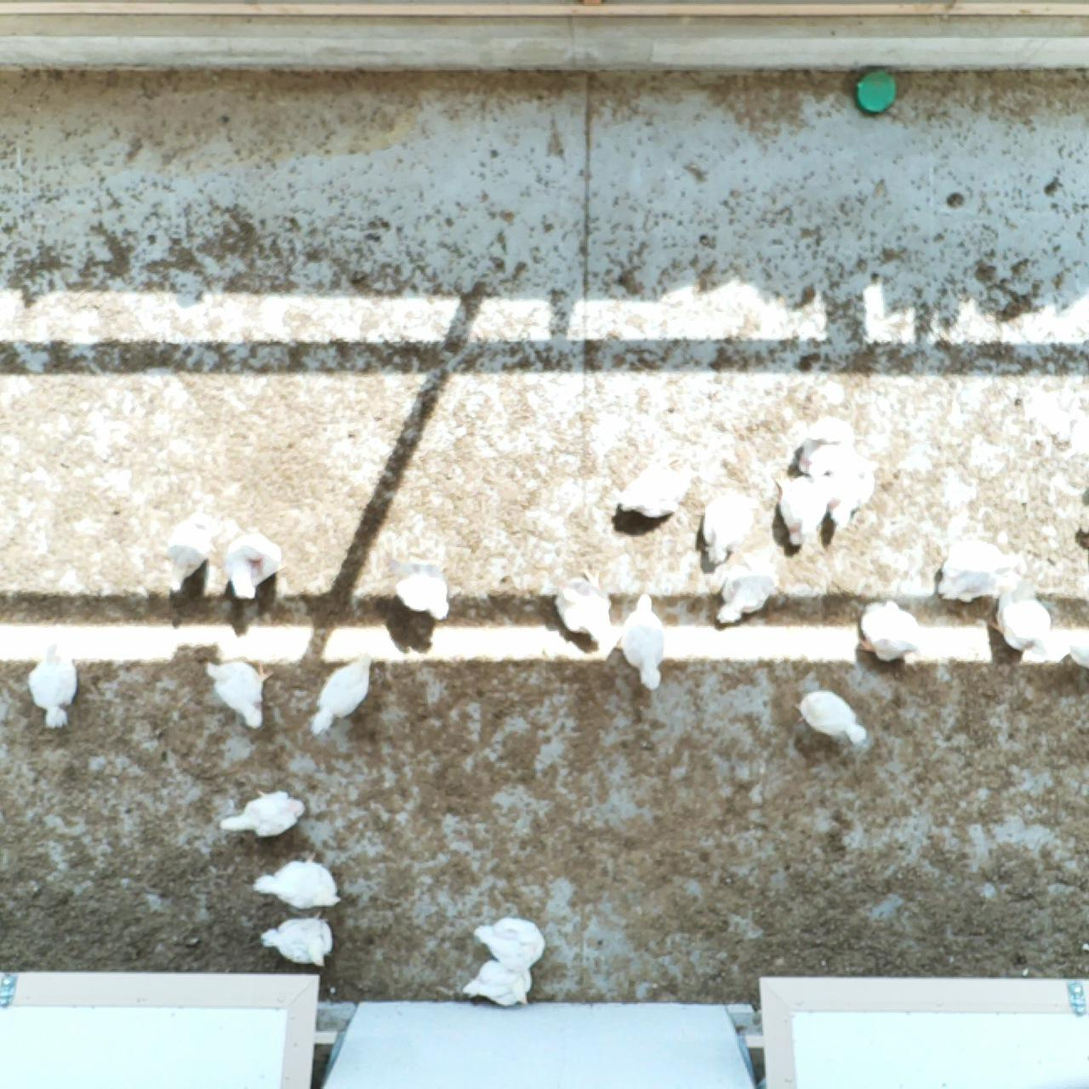chicken: (307, 647, 381, 740), (936, 539, 1029, 606), (248, 853, 342, 911), (204, 655, 273, 734), (615, 458, 700, 521), (711, 552, 783, 626), (219, 786, 308, 842), (619, 590, 669, 689), (791, 412, 862, 480), (989, 585, 1054, 657), (700, 487, 759, 566), (161, 510, 215, 595), (29, 643, 81, 730), (853, 599, 923, 662), (797, 689, 870, 749), (558, 565, 613, 644), (822, 458, 883, 529), (223, 532, 285, 601), (472, 914, 547, 971), (774, 472, 829, 549), (389, 556, 453, 622), (258, 915, 334, 969), (462, 956, 533, 1008), (1063, 631, 1089, 672)
